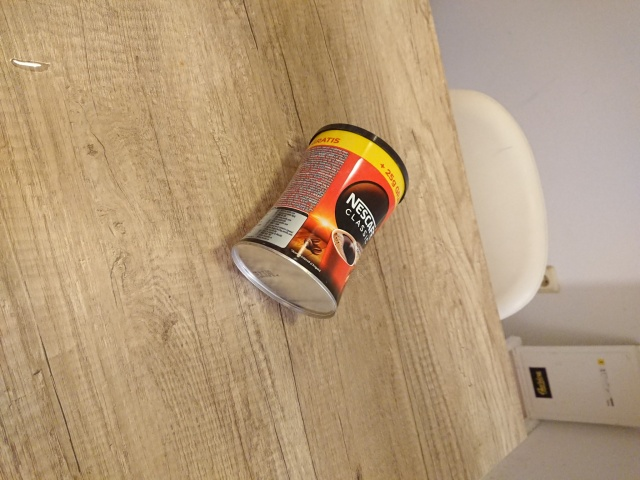Nescafe Classic 225g: (227, 120, 412, 323)
